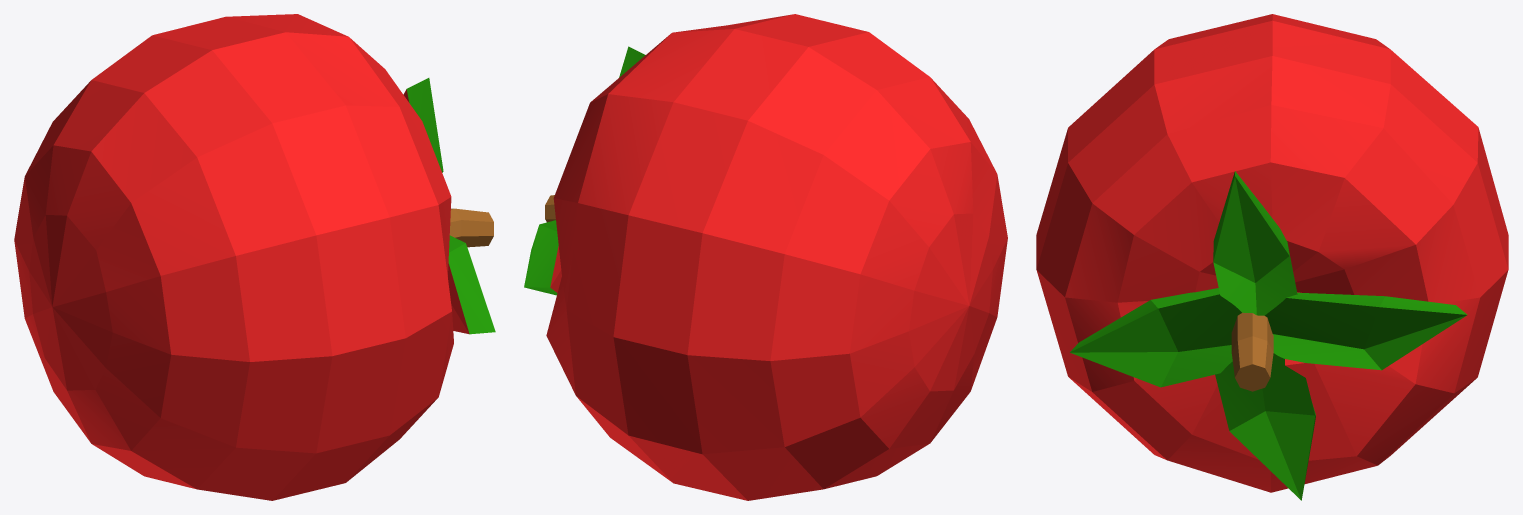
The model's file is tomato.gltf.
The picture shows the model from 3 angles, left to right: view 1: azimuth 30°, elevation 25°; view 2: azimuth 150°, elevation 25°; view 3: azimuth 270°, elevation 25°; orthographic projection. The views are drawn at different scales.
Visible parts, largest first — view 1: Sphere.016 (×2), Buffer Layer; view 2: Sphere.016, Buffer Layer; view 3: Sphere.016 (×2), Buffer Layer.
Part boxes in pixels (left/top/right/bottom): Sphere.016 (×2): left=14, top=14, right=493, bottom=500; Buffer Layer: left=406, top=78, right=495, bottom=334; Sphere.016: left=546, top=14, right=1007, bottom=500; Buffer Layer: left=524, top=46, right=645, bottom=295; Sphere.016 (×2): left=1036, top=14, right=1508, bottom=492; Buffer Layer: left=1070, top=171, right=1467, bottom=500.
Size of the model in its own units: 4.23 by 4.14 by 4.14.
